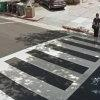Crosswalk: (5, 32, 90, 92)
